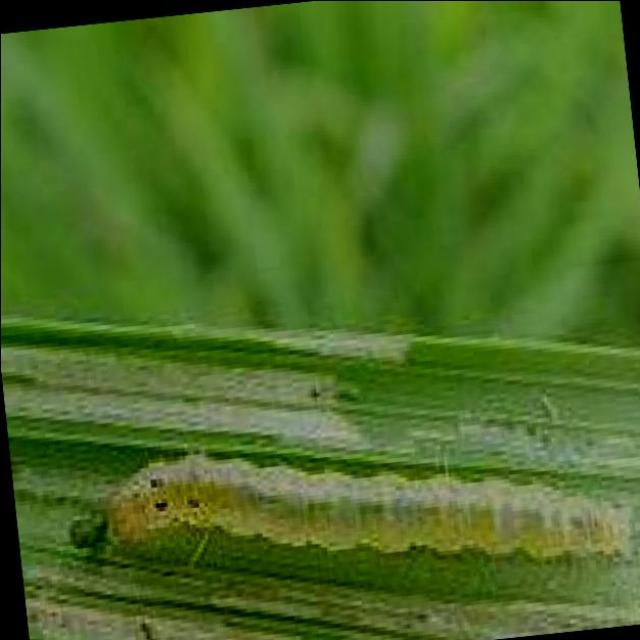leaf folder: (106, 456, 629, 556)
